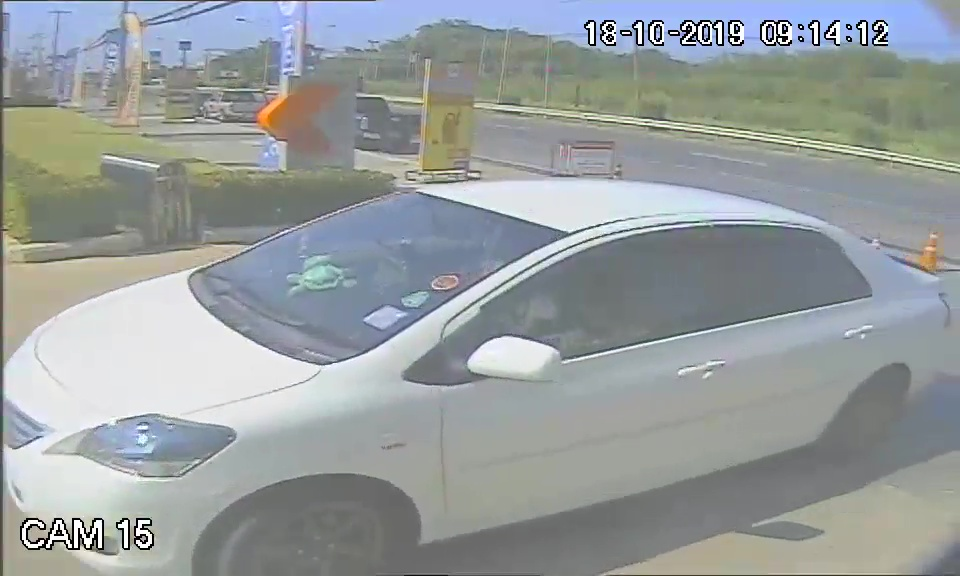sedan: (4, 182, 681, 576)
